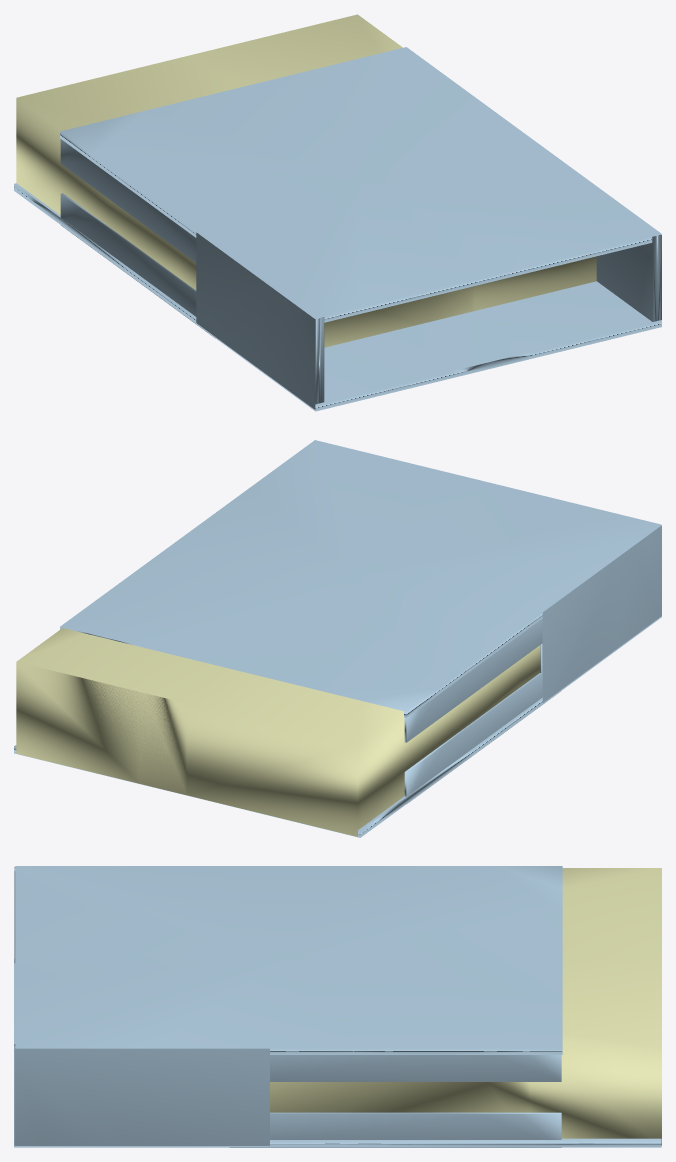
File: Modern House_01.fbx
3 renders of one model, top to bottom at view 1: azimuth 30°, elevation 25°; view 2: azimuth 150°, elevation 25°; view 3: azimuth 270°, elevation 25°, orthographic. The views are drawn at different scales.
Visible parts, largest first — view 1: Modernhousepart; view 2: Modernhousepart; view 3: Modernhousepart.
Boxes of the visible parts, box(x1,y1,x2,y2) form: Modernhousepart: box(14, 14, 661, 411); Modernhousepart: box(14, 440, 661, 837); Modernhousepart: box(14, 866, 661, 1147).
Bounding box in the file's own units: 12.01 × 3.1 × 18.11.
